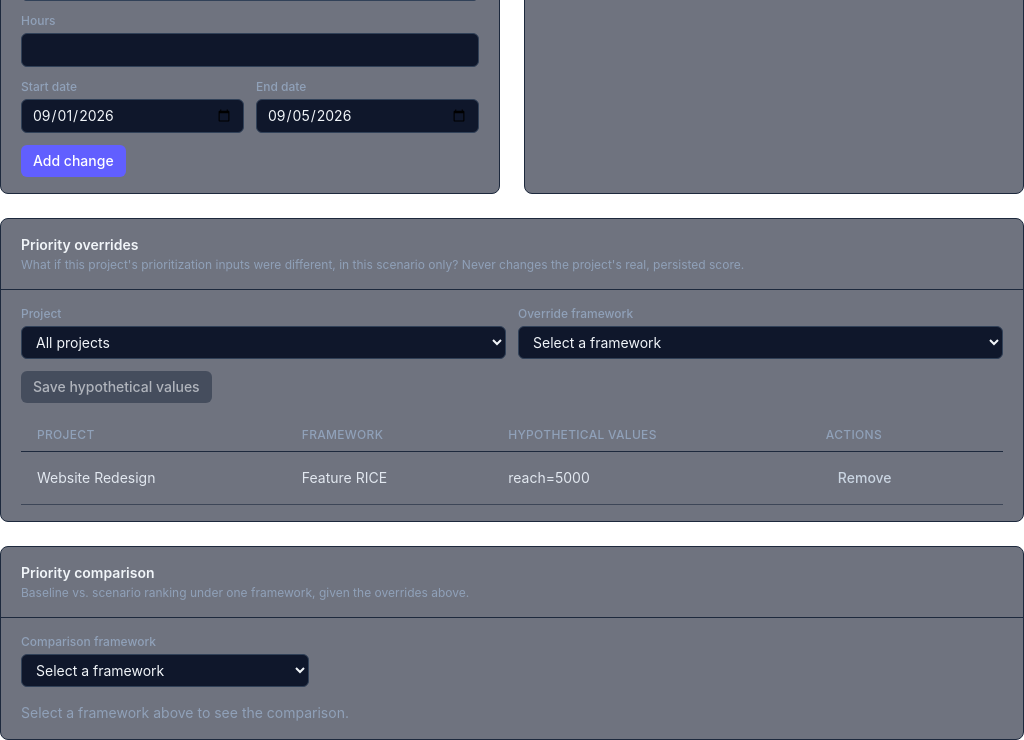
ScenarioWorkspacePage › shows the baseline-vs-scenario comparison once a framework is selected
(page scrolled)
Select "Feature RICE (RICE)" in the dropdown labelled "Comparison framework" at (165, 670), box [21,654,309,687]
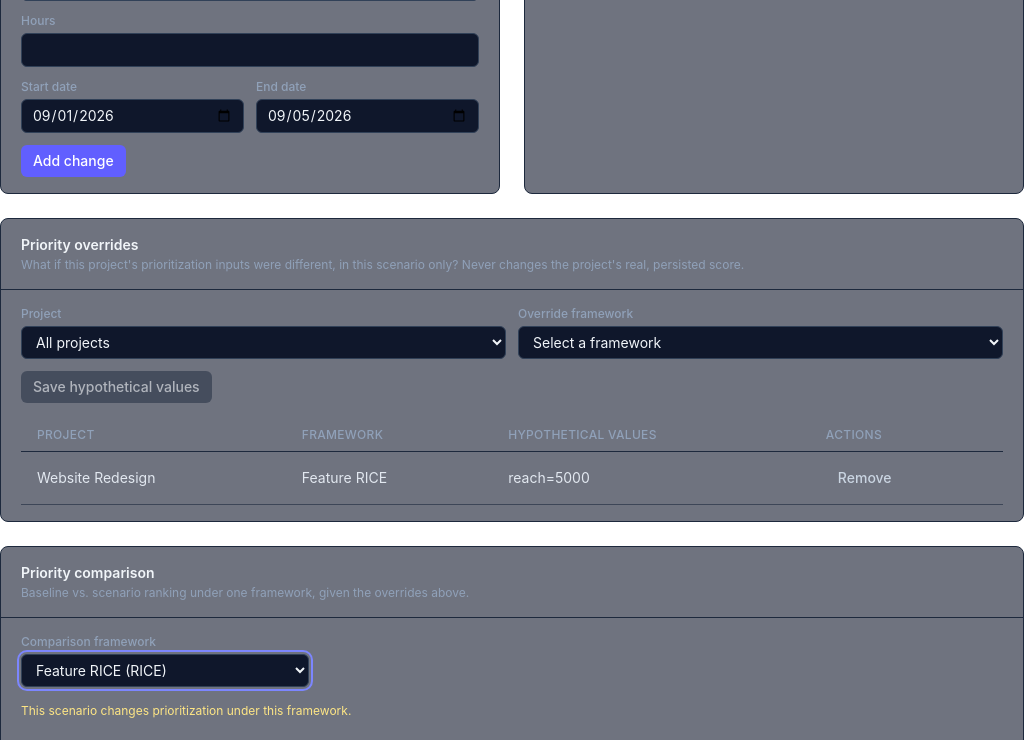
Now the text "This scenario changes prioritization under this framework." is shown, box [21,703,351,718]
